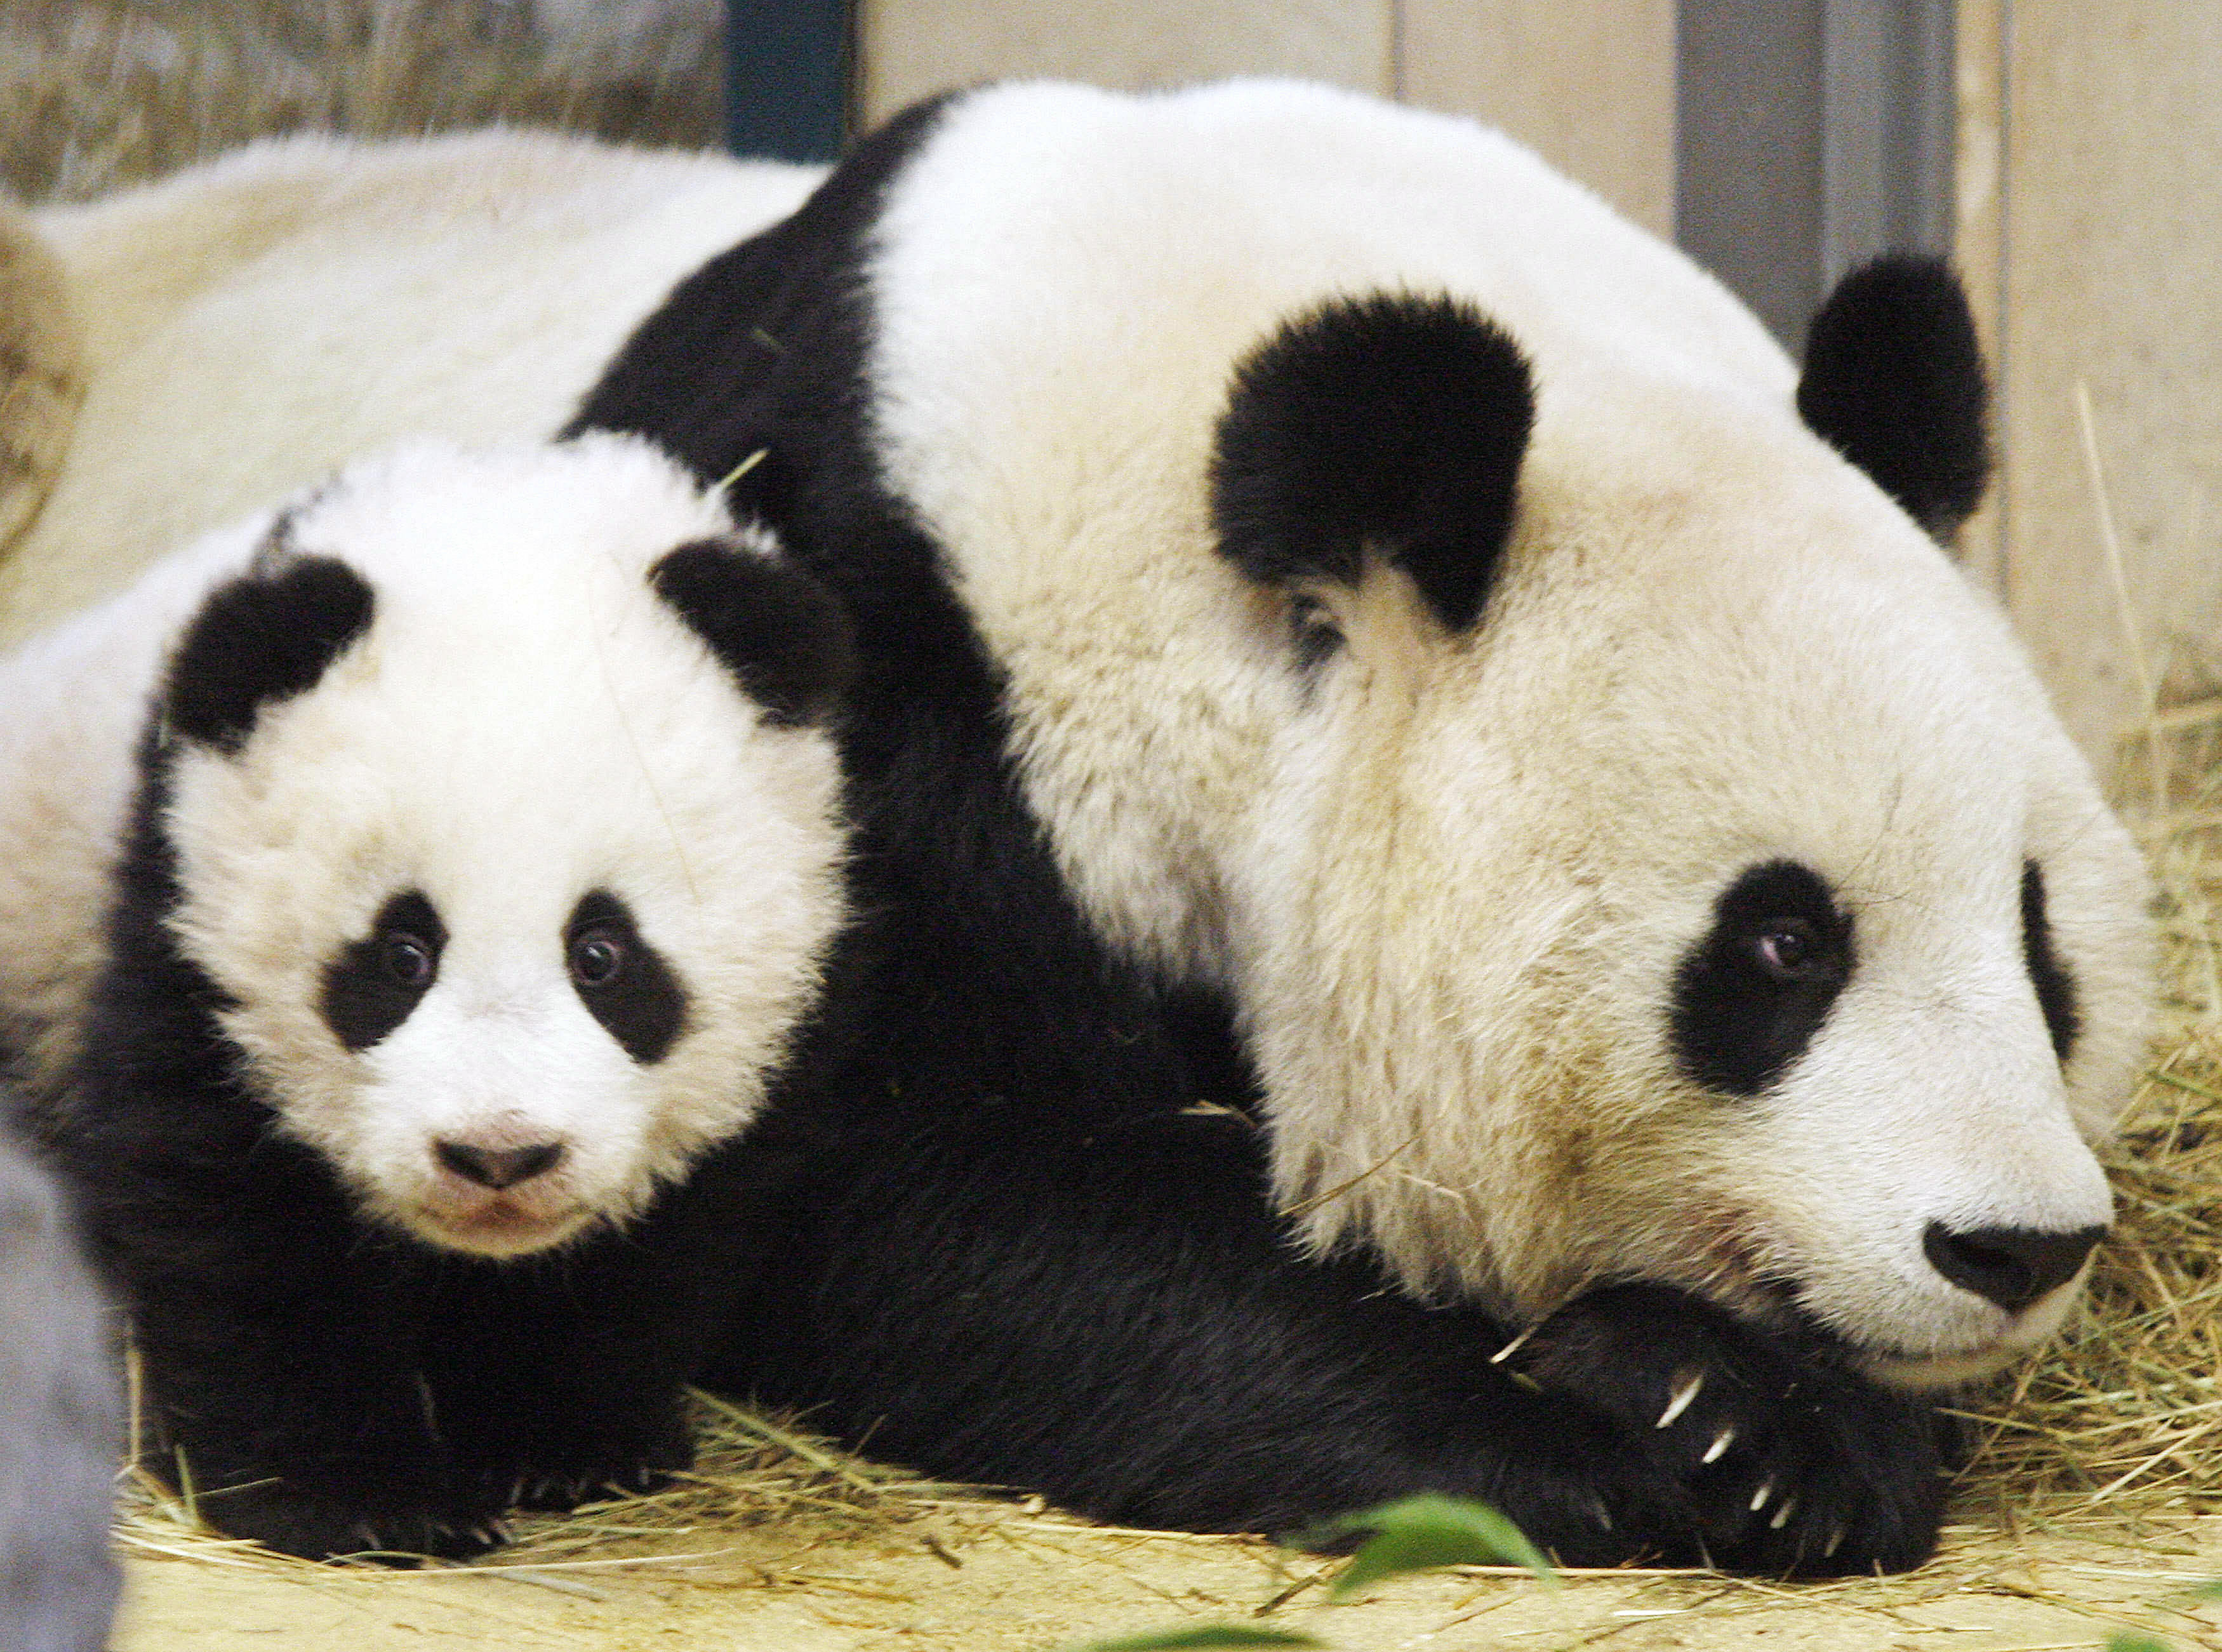panda: (17, 73, 2135, 1534), (49, 462, 874, 1551)
